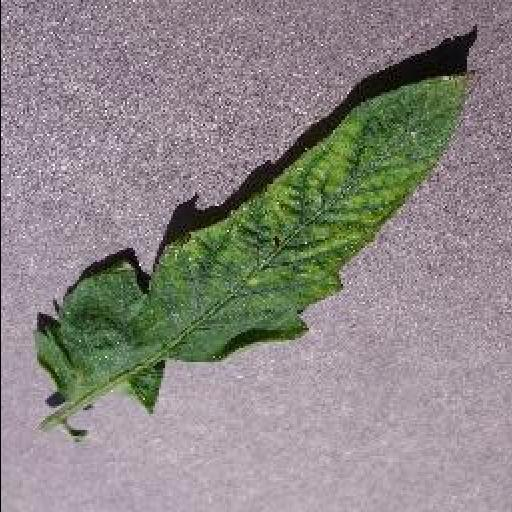Mosaic Virus: (32, 66, 486, 412)
